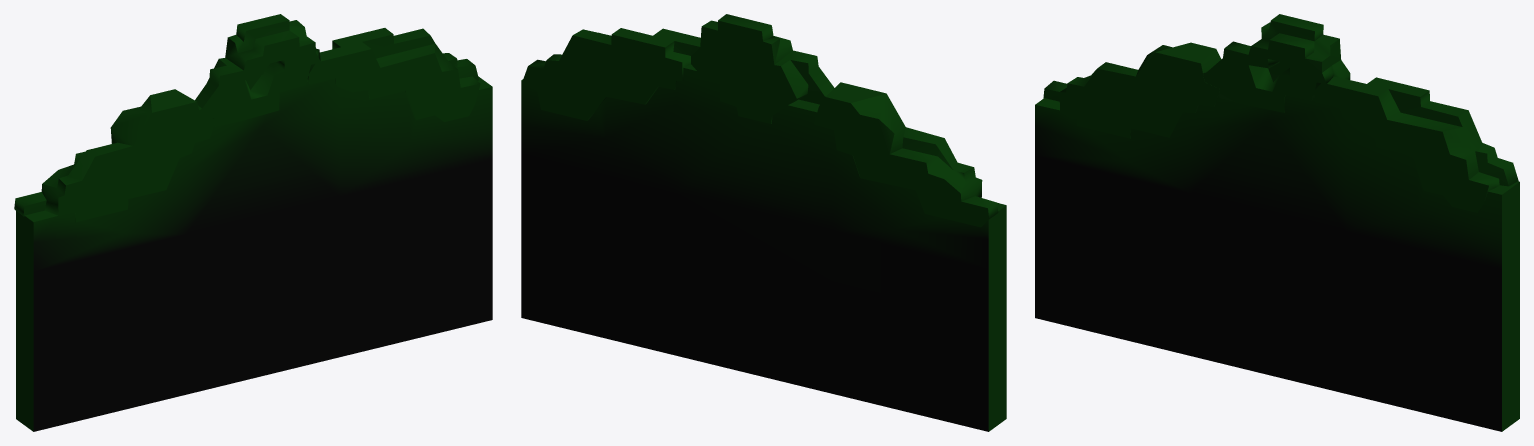
File: DBK_Brick_Tile_B.fbx
3 renders of one model, left to right at view 1: azimuth 30°, elevation 25°; view 2: azimuth 150°, elevation 25°; view 3: azimuth 330°, elevation 25°, orthographic.
Parts seen in each view (by area): view 1: DBK_Brick_Tile_B; view 2: DBK_Brick_Tile_B; view 3: DBK_Brick_Tile_B.
Part boxes in pixels (x1,y1,x2,y2): DBK_Brick_Tile_B: [14, 14, 492, 431]; DBK_Brick_Tile_B: [521, 14, 1006, 431]; DBK_Brick_Tile_B: [1035, 14, 1519, 431].
Size of the model in its own units: 301 by 212 by 21.05.
